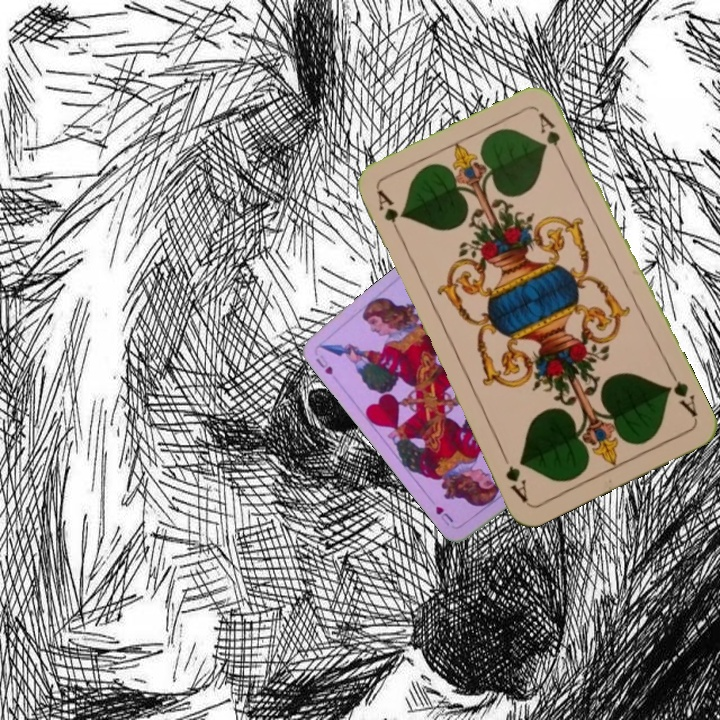GA: (662, 366, 701, 420), (373, 185, 406, 242)
HU: (311, 350, 336, 377)
